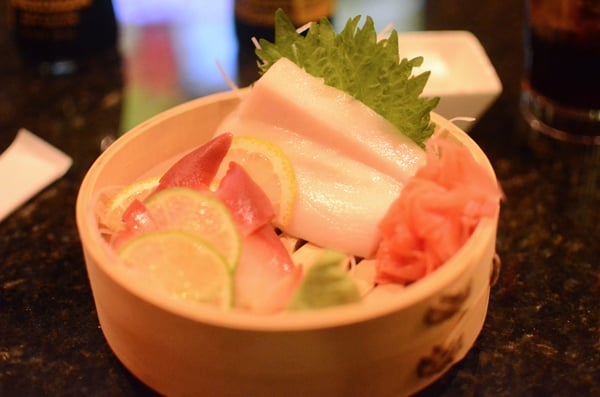pizza: (112, 1, 240, 138), (518, 1, 600, 148)
soup: (228, 8, 440, 189)
sushi: (89, 27, 502, 392)
